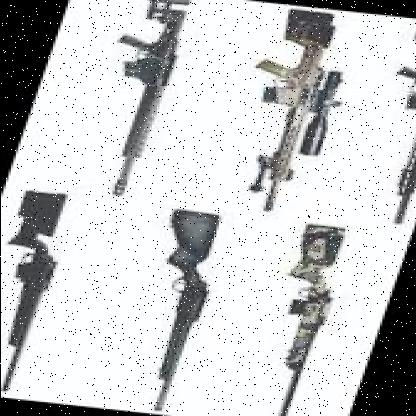rifle: (116, 209, 238, 414), (225, 8, 347, 212), (76, 0, 198, 196), (240, 222, 362, 416), (0, 188, 82, 392), (354, 21, 416, 224)
